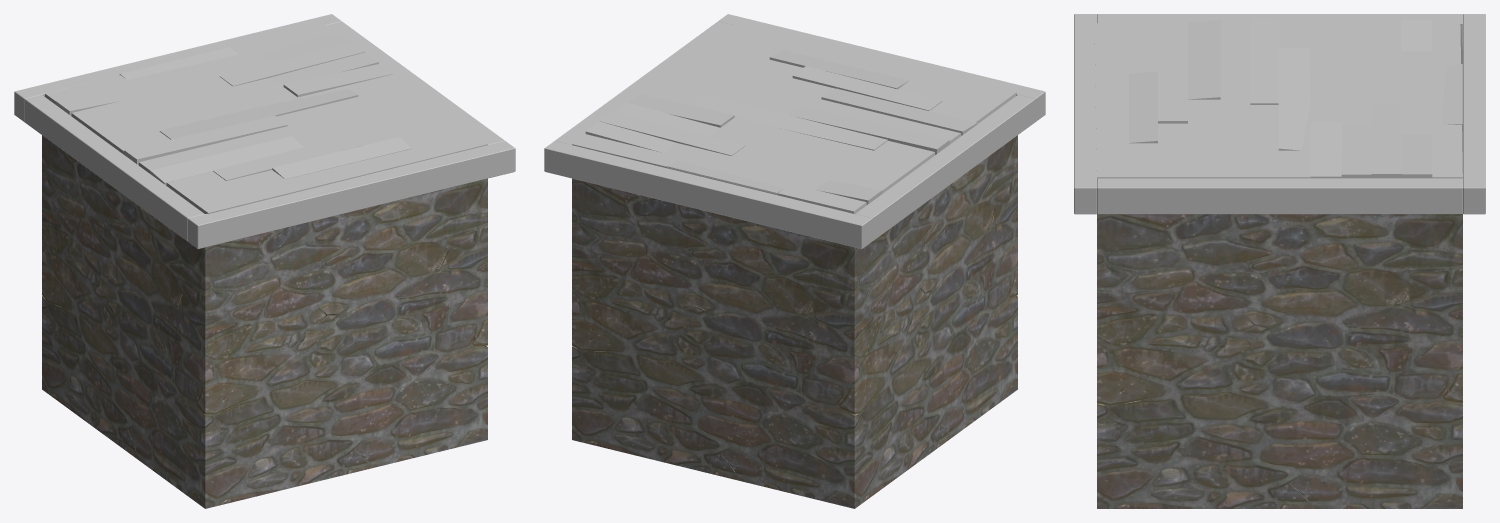
3 views of the same model, side by side, from view 1: azimuth 30°, elevation 25°; view 2: azimuth 150°, elevation 25°; view 3: azimuth 270°, elevation 25° (orthographic). The views are drawn at different scales.
Visible parts, largest first — view 1: SM_BB_T2_Foundation_Large_LOD0; view 2: SM_BB_T2_Foundation_Large_LOD0; view 3: SM_BB_T2_Foundation_Large_LOD0.
Part boxes in pixels (box(x1,y1,x2,y2)): SM_BB_T2_Foundation_Large_LOD0: box(14, 14, 515, 508); SM_BB_T2_Foundation_Large_LOD0: box(544, 14, 1045, 508); SM_BB_T2_Foundation_Large_LOD0: box(1074, 14, 1485, 508).
Size of the model in its own units: 3.38 by 3.04 by 3.38.
